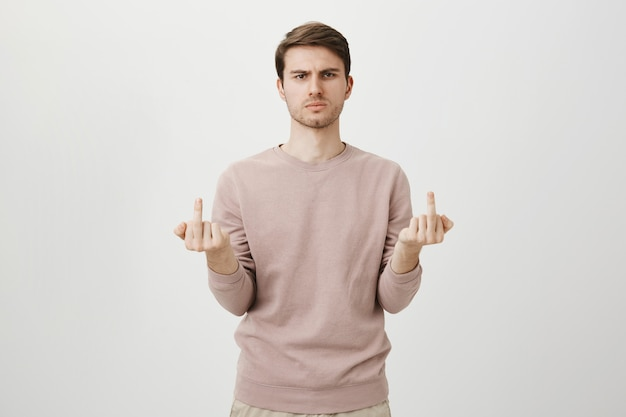insulting_gesture: (396, 190, 455, 248), (170, 196, 230, 253)
